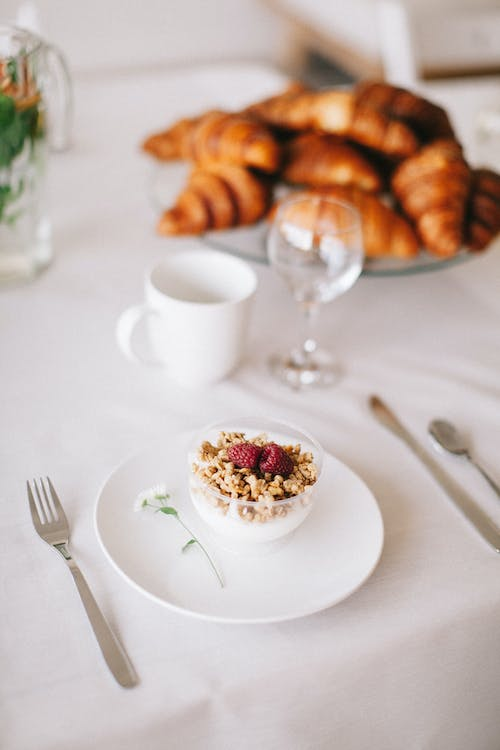knife: (363, 385, 500, 557)
